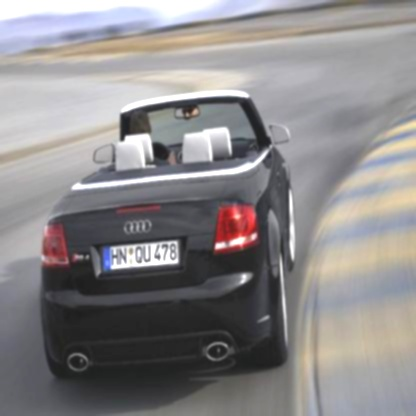Vehicle: (38, 83, 294, 372)
